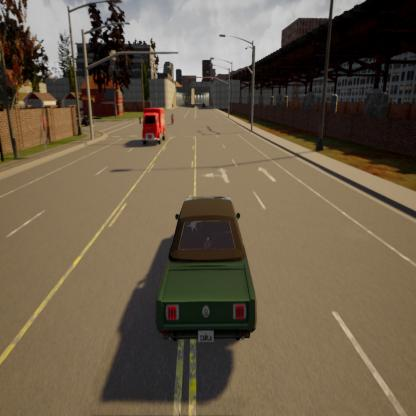Cars: (156, 194, 256, 346), (141, 106, 165, 142), (80, 115, 92, 129), (170, 109, 174, 128)
